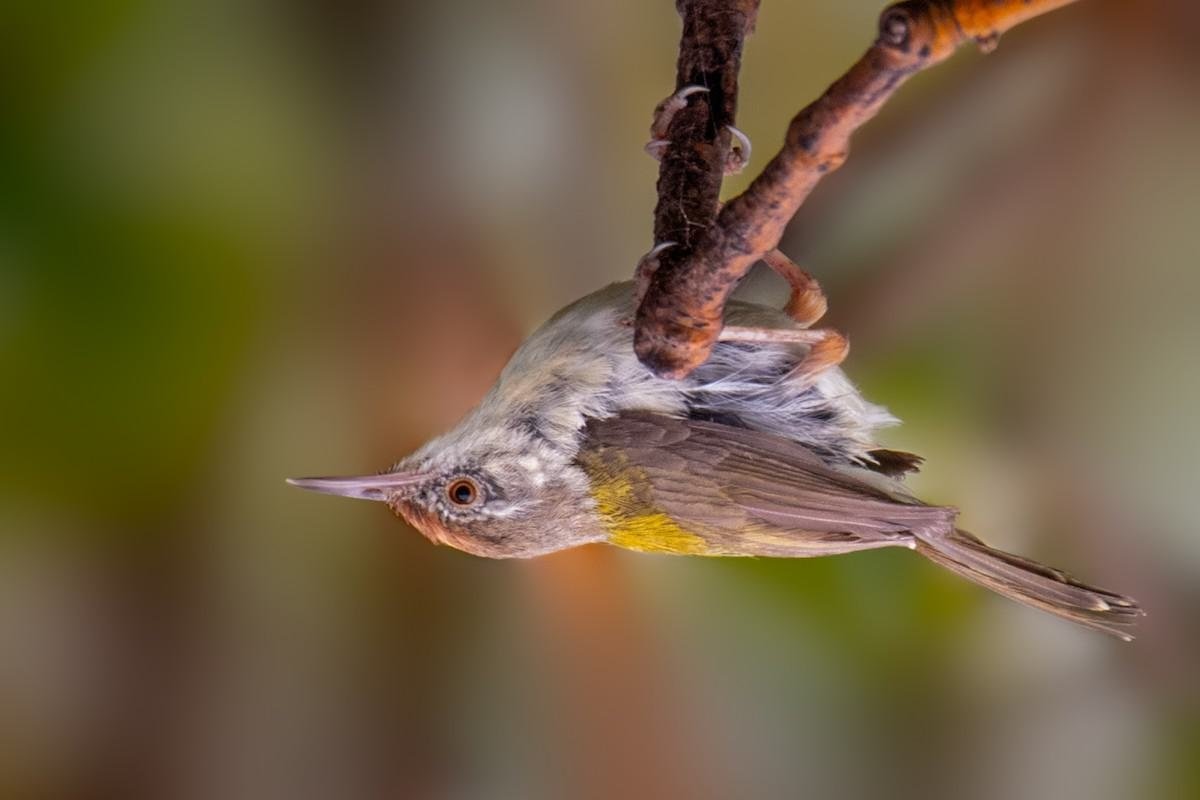tailorbird: (291, 190, 1158, 668)
